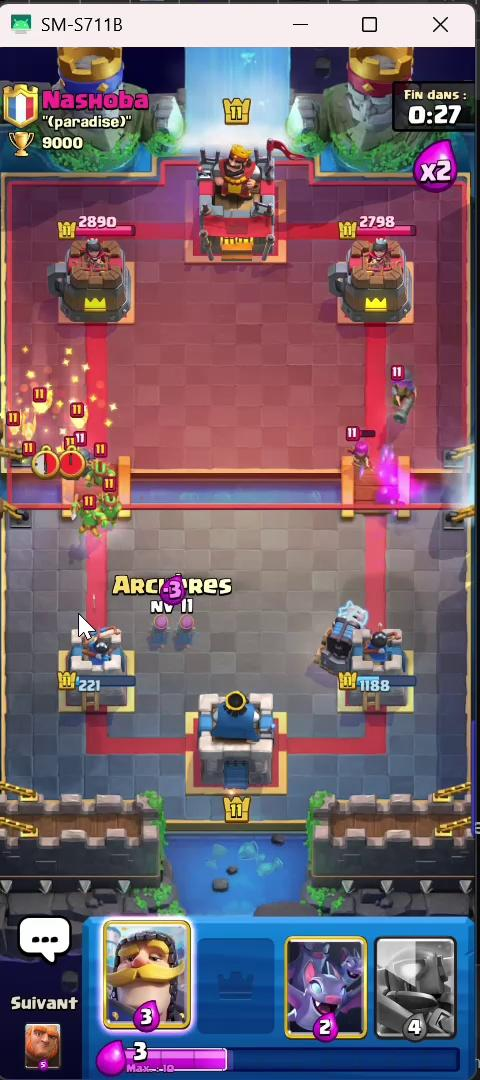archere: (332, 419, 383, 486), (140, 605, 173, 655), (174, 608, 203, 652)
bat: (19, 383, 59, 423), (61, 389, 94, 435), (0, 402, 31, 442), (49, 431, 74, 464), (18, 414, 41, 439)
gobelin_lances: (64, 490, 110, 540), (89, 438, 117, 491), (98, 485, 124, 534)
mini_PEKKA: (64, 425, 108, 486)
mousquetaire: (379, 360, 426, 440)
zappy: (309, 606, 377, 685)
